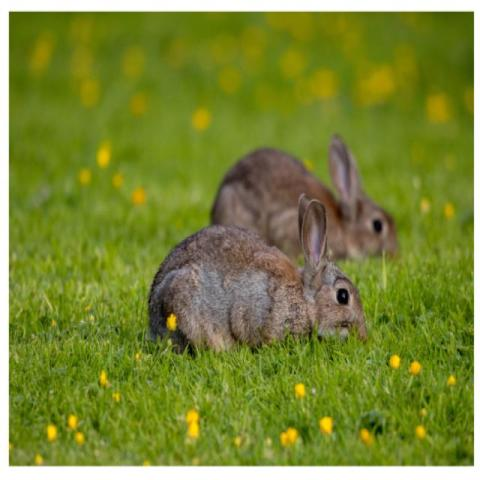small_animal: (145, 193, 368, 357), (208, 131, 400, 264)
